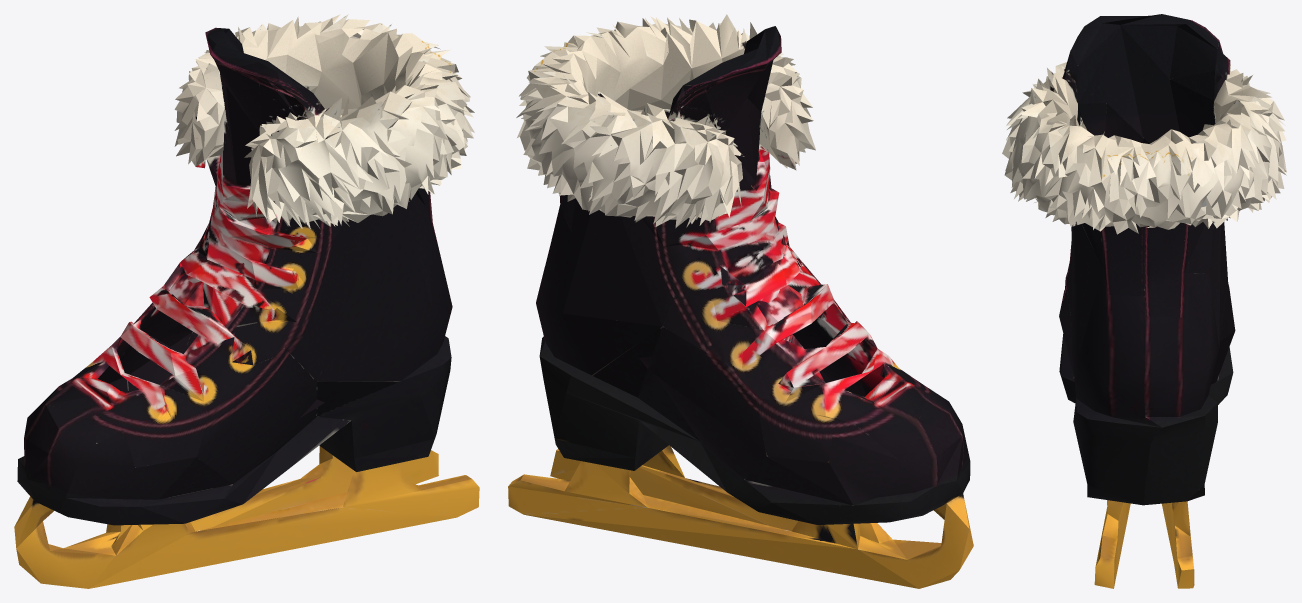
3 renders of one model, left to right at view 1: azimuth 30°, elevation 25°; view 2: azimuth 150°, elevation 25°; view 3: azimuth 270°, elevation 25°, orthographic. The views are drawn at different scales.
Visible parts, largest first — view 1: output_unwrapped; view 2: output_unwrapped; view 3: output_unwrapped.
Part boxes in pixels (<box>): output_unwrapped: <box>14,14,479,588</box>; output_unwrapped: <box>508,14,973,588</box>; output_unwrapped: <box>1002,14,1286,588</box>.
Bounding box in the file's own units: 1.75 × 1.9 × 1.03.
1 material, 1 textured.
